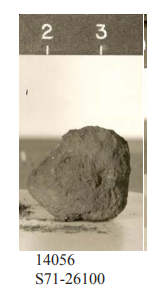Breccia: (20, 115, 131, 231)
